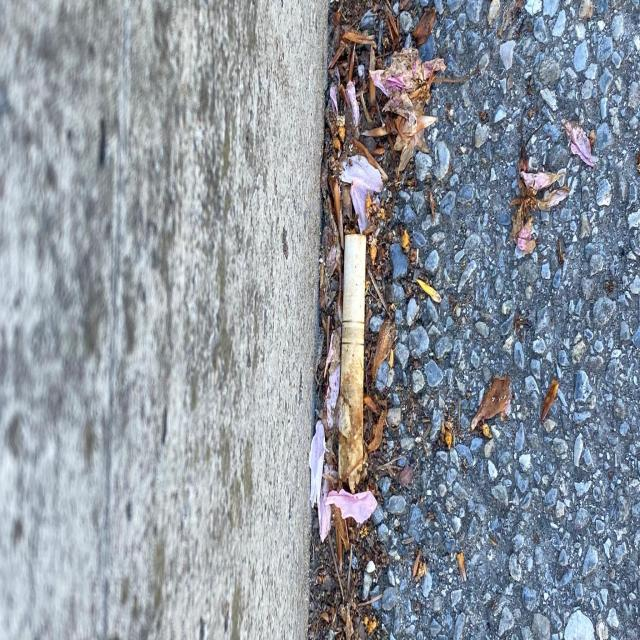other waste: (335, 233, 367, 497)
